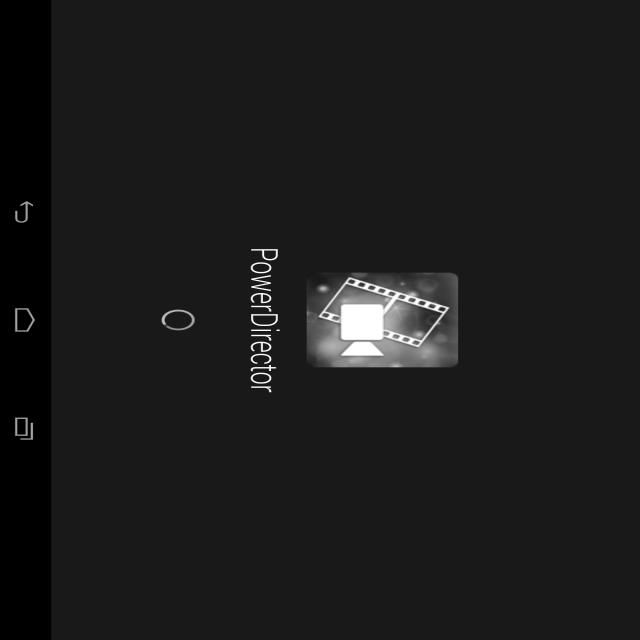ImageView: (300, 270, 467, 369)
Spinner: (156, 305, 202, 335)
TextView: (242, 246, 286, 397)
